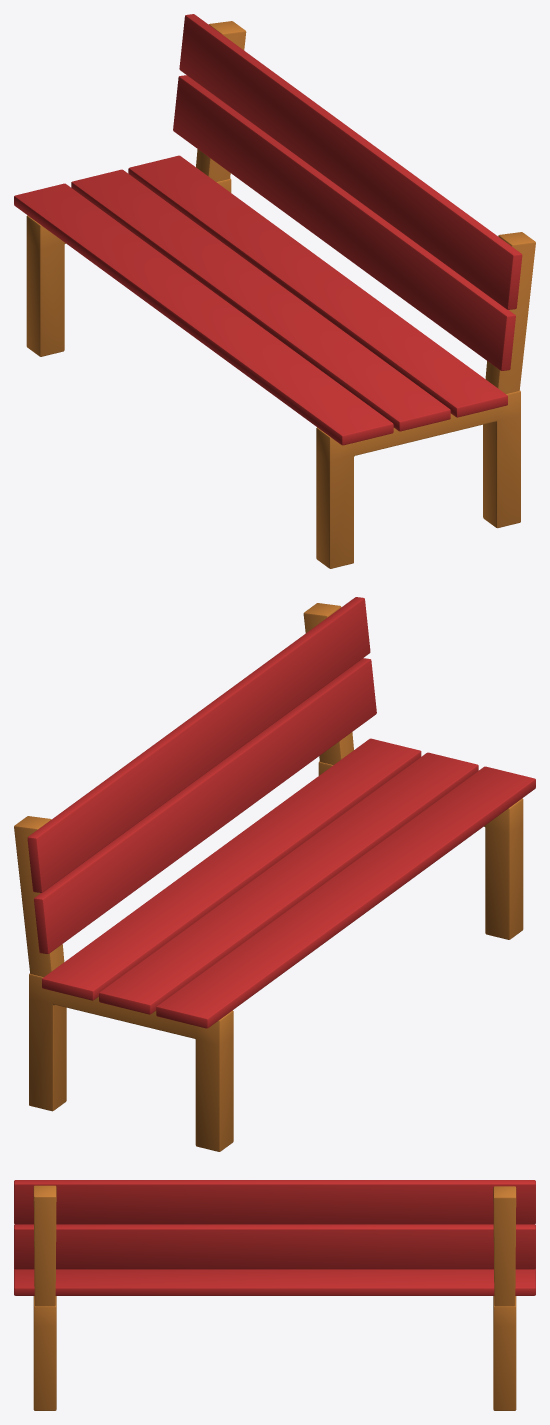
The model's file is bench.obj.
3 views of the same model, one above another, from view 1: azimuth 30°, elevation 25°; view 2: azimuth 150°, elevation 25°; view 3: azimuth 270°, elevation 25° (orthographic). The views are drawn at different scales.
Visible parts, largest first — view 1: bench_Plane.012; view 2: bench_Plane.012; view 3: bench_Plane.012.
Boxes of the visible parts, x1,y1,x2,y2 form: bench_Plane.012: [14, 14, 535, 568]; bench_Plane.012: [14, 597, 535, 1151]; bench_Plane.012: [14, 1180, 535, 1410].
Bounding box in the file's own units: 0.7353 × 0.9572 × 2.02.
